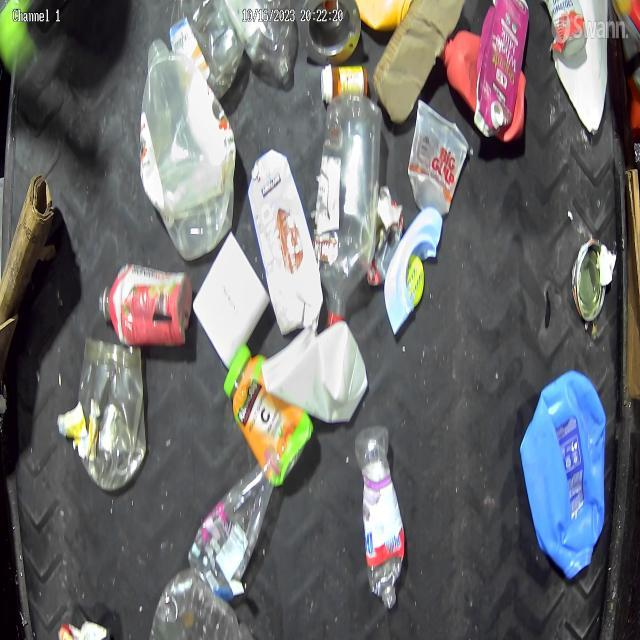can: (570, 236, 608, 324), (544, 0, 587, 58)
non_white_jug: (140, 36, 236, 261), (518, 368, 608, 582)
plastic_bottle: (314, 90, 384, 328), (187, 444, 281, 594), (354, 424, 406, 612)
